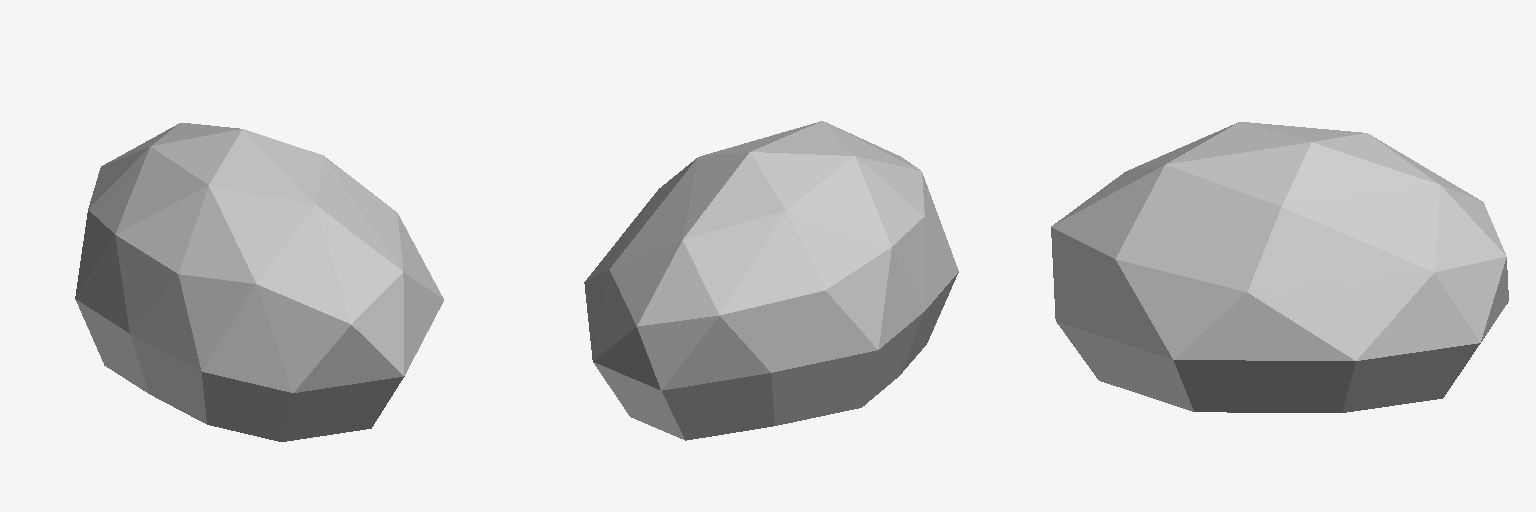
File: Rock_LP_1.obj
The picture shows the model from 3 angles: view 1: azimuth 30°, elevation 25°; view 2: azimuth 150°, elevation 25°; view 3: azimuth 270°, elevation 25°; orthographic projection.
Parts seen in each view (by area): view 1: bush_1_Icosphere.002; view 2: bush_1_Icosphere.002; view 3: bush_1_Icosphere.002.
Part boxes in pixels (x1,y1,x2,y2): bush_1_Icosphere.002: (75,123,443,441); bush_1_Icosphere.002: (584,121,958,440); bush_1_Icosphere.002: (1051,122,1508,412).
Bounding box in the file's own units: 2.02 × 1.52 × 2.74.